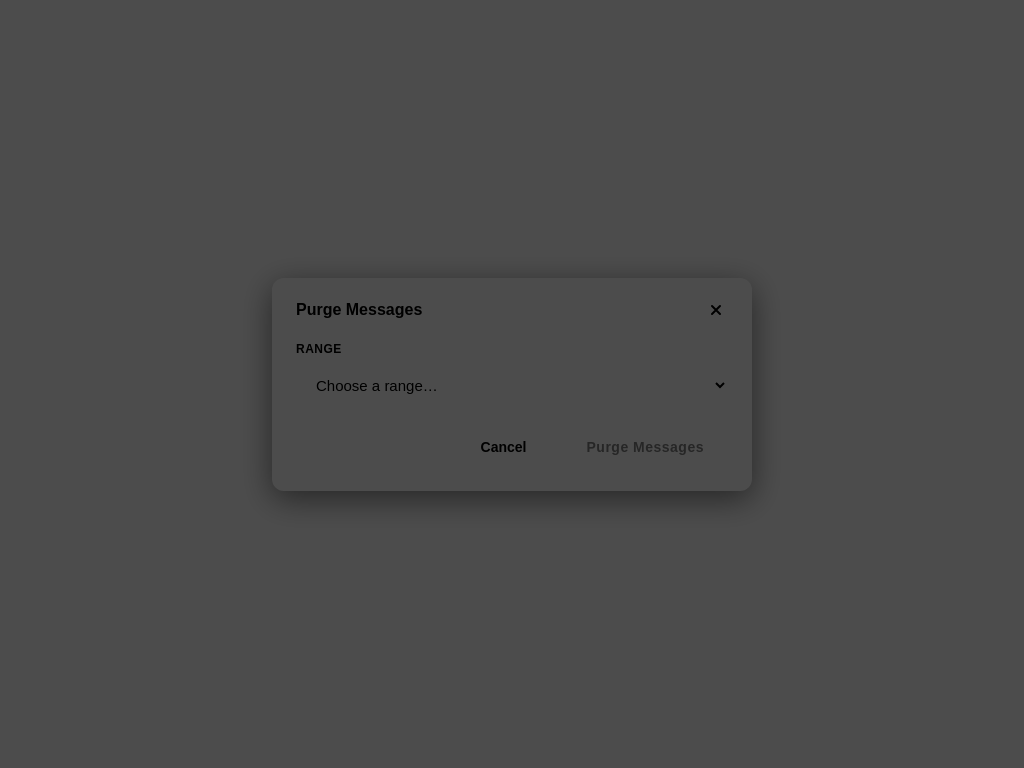
Test: PurgeMessagesModal — configure stage › returns a reopened dialog to the configure stage, not the last result
Select "Last 7 days" in the dropdown labelled "Range" at (512, 385), box [296,364,728,406]
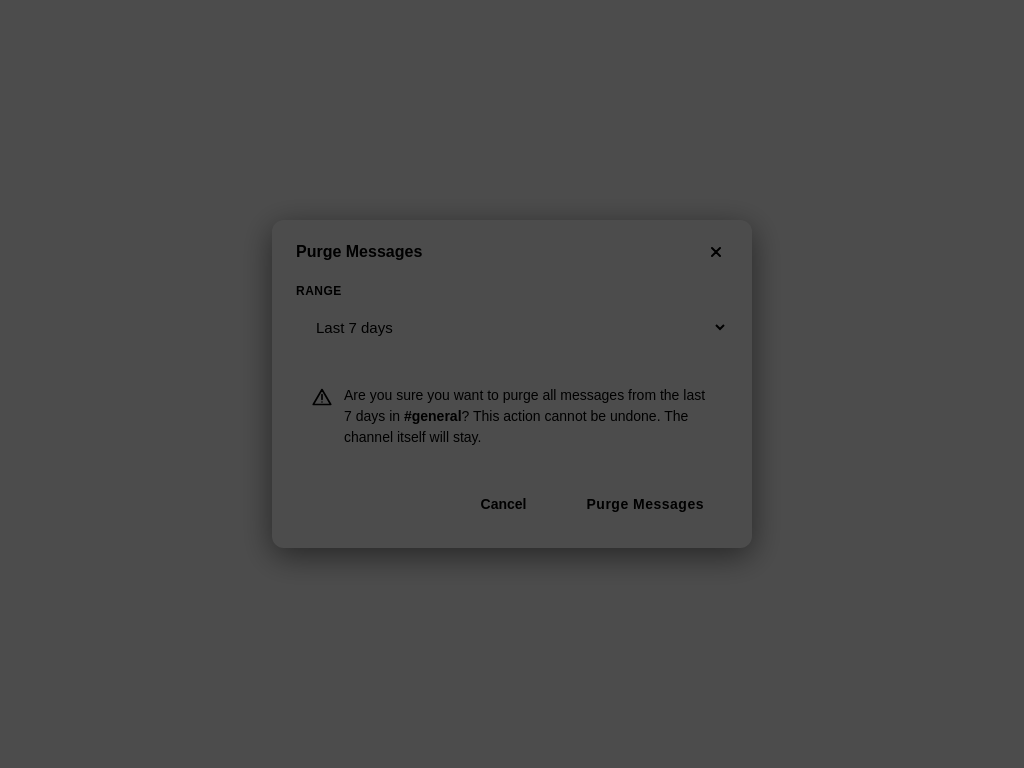
Click the button "Purge Messages" at (645, 504), box [562,484,728,524]
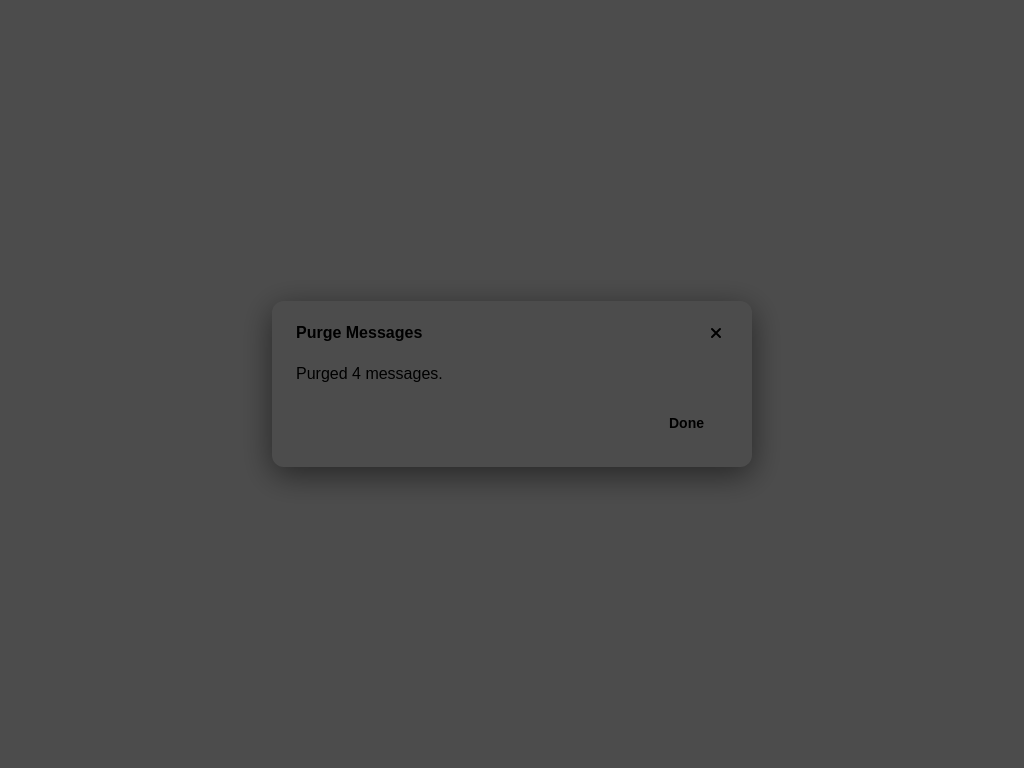
Expected: the text "Purged 4 messages." is shown, [296,365,443,382]
